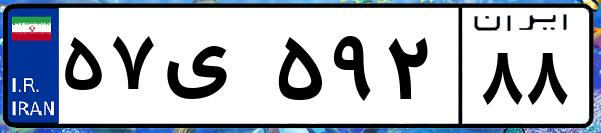2: (385, 28, 445, 110)
5: (270, 28, 330, 110), (57, 26, 110, 100)
7: (110, 28, 158, 98)
8: (475, 38, 525, 113), (525, 38, 570, 115)
9: (330, 28, 385, 110)
ی: (158, 20, 270, 120)
